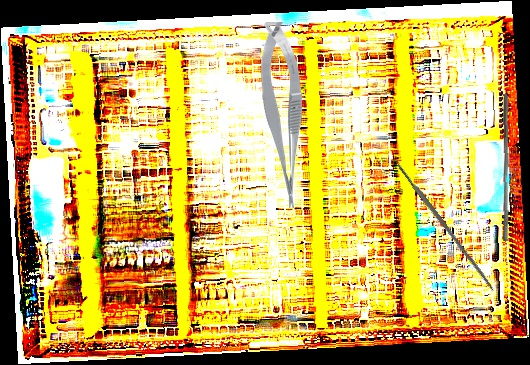Micro Scissor: (260, 22, 303, 208)
Pusher: (497, 93, 514, 242)
Scalpel Handle: (395, 161, 497, 293)
